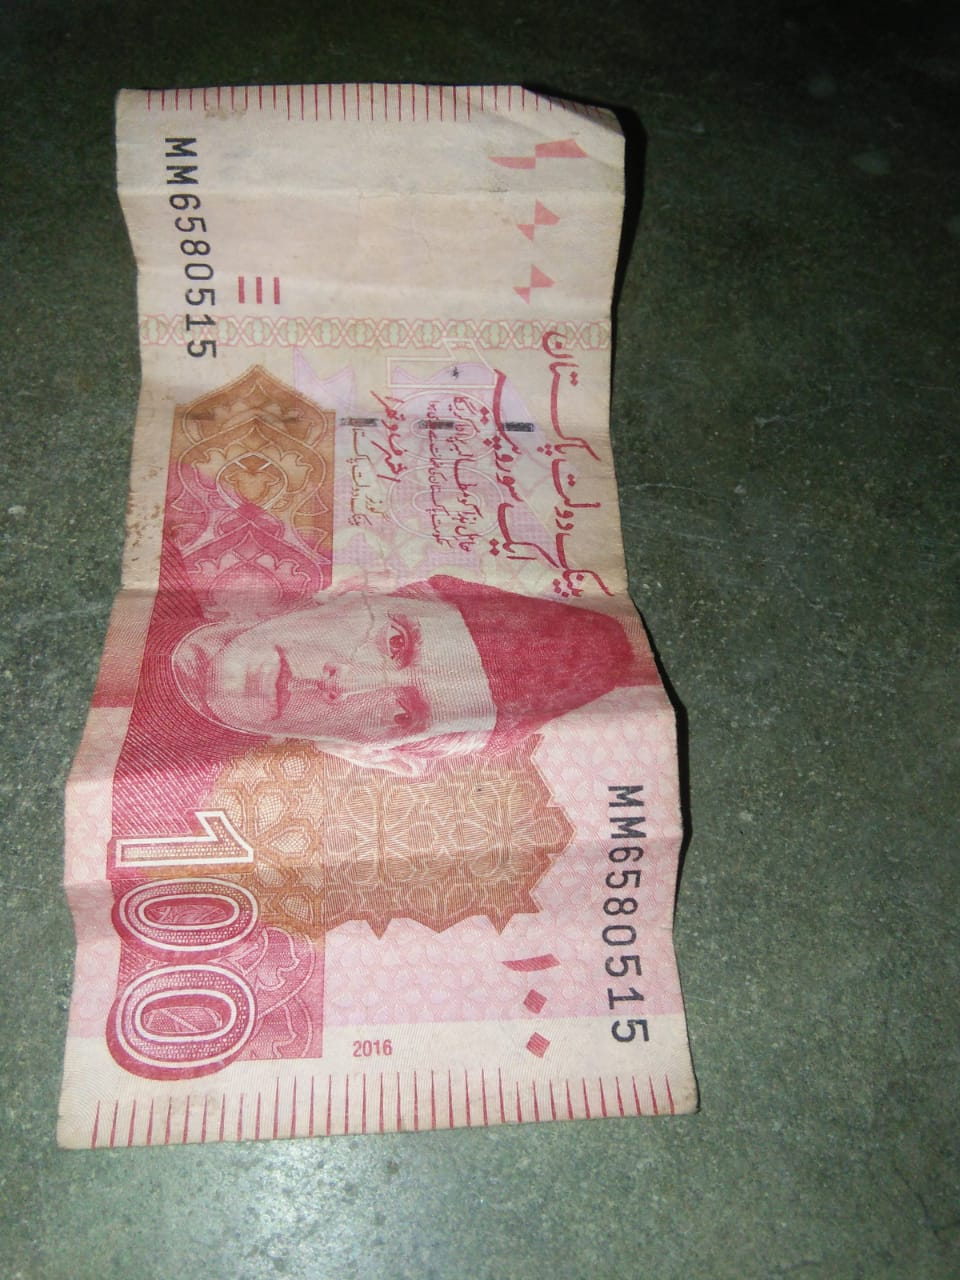100 rupee: (36, 60, 755, 1179)
